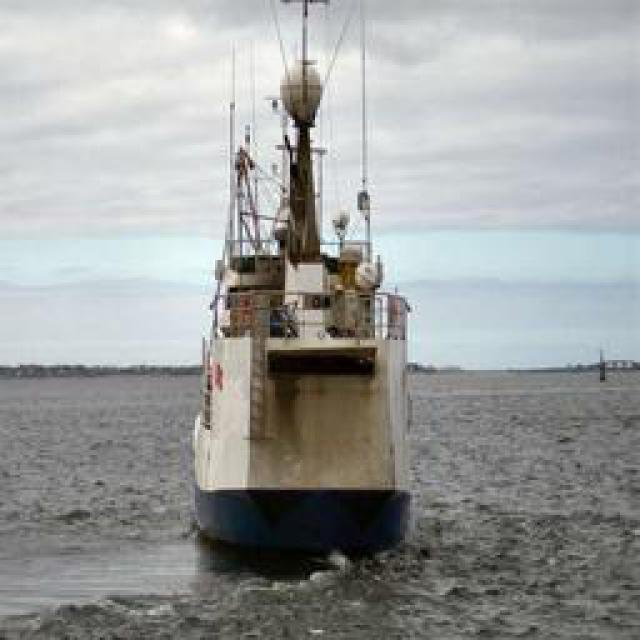Ship: (192, 5, 420, 573)
